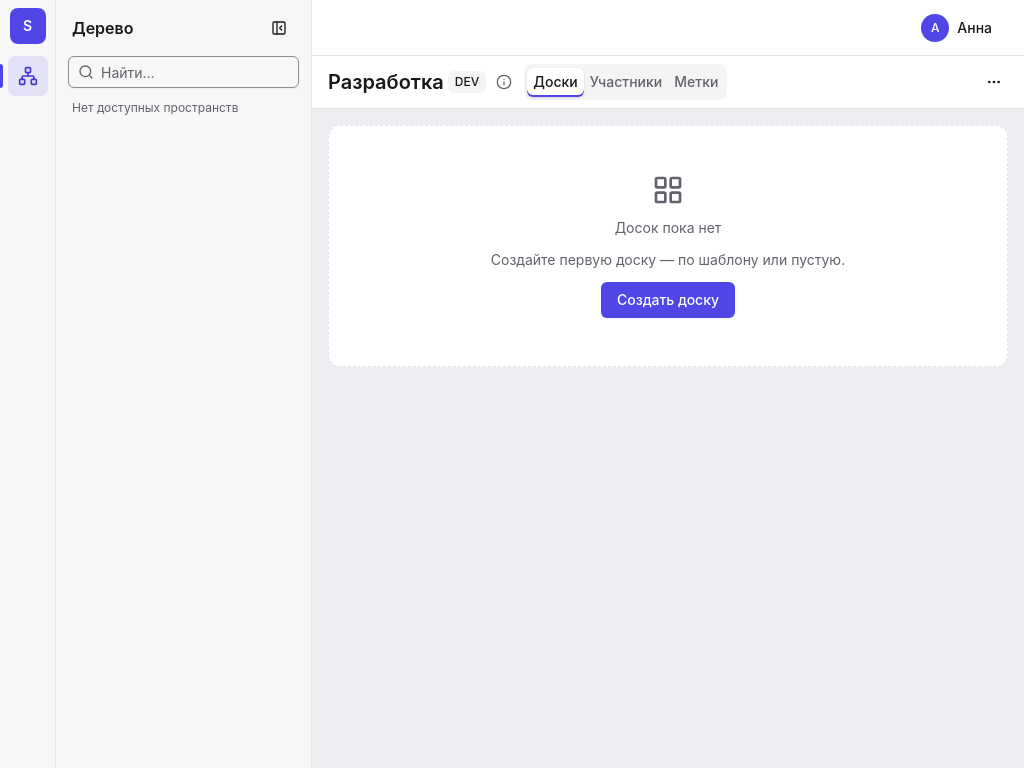
Test: Участники пространства: люди и группы › гостю люди компании-хозяина — без email, группы — «группа» без названия (решение PM 28.10)
Click the tab "Участники". click: click(626, 82)
box: [584,68,668,96]
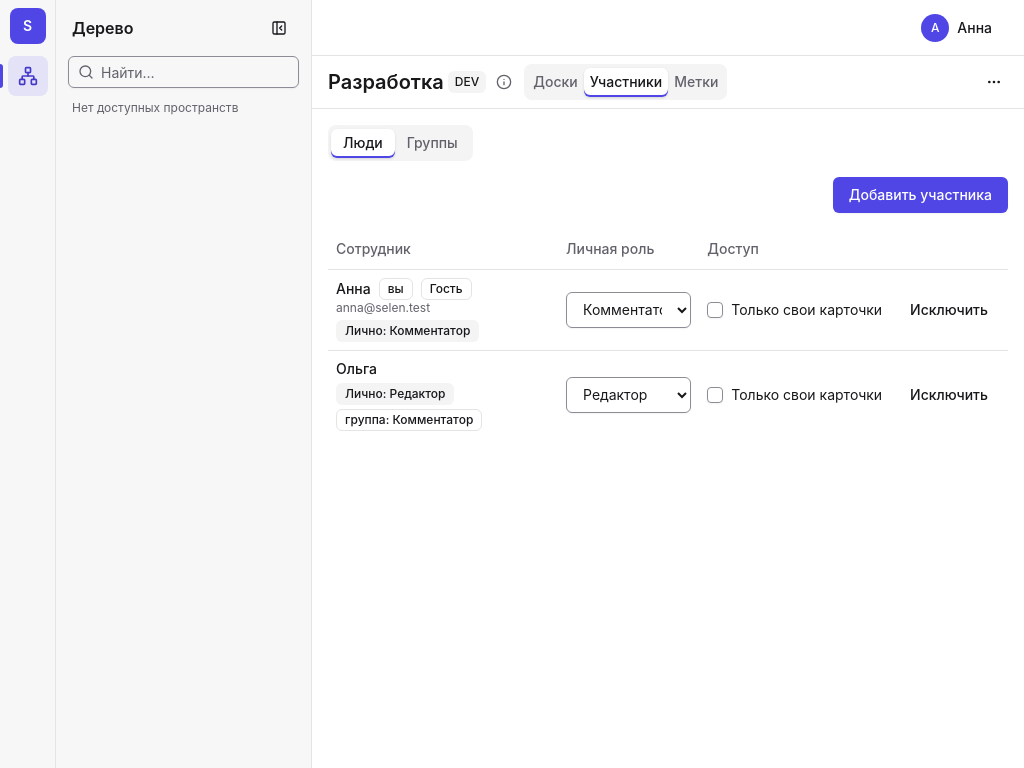
Check: the text "группа: Комментатор" is shown, box [336,408,482,430]
Check: the text "anna@selen.test" is shown, box [336,300,430,314]
